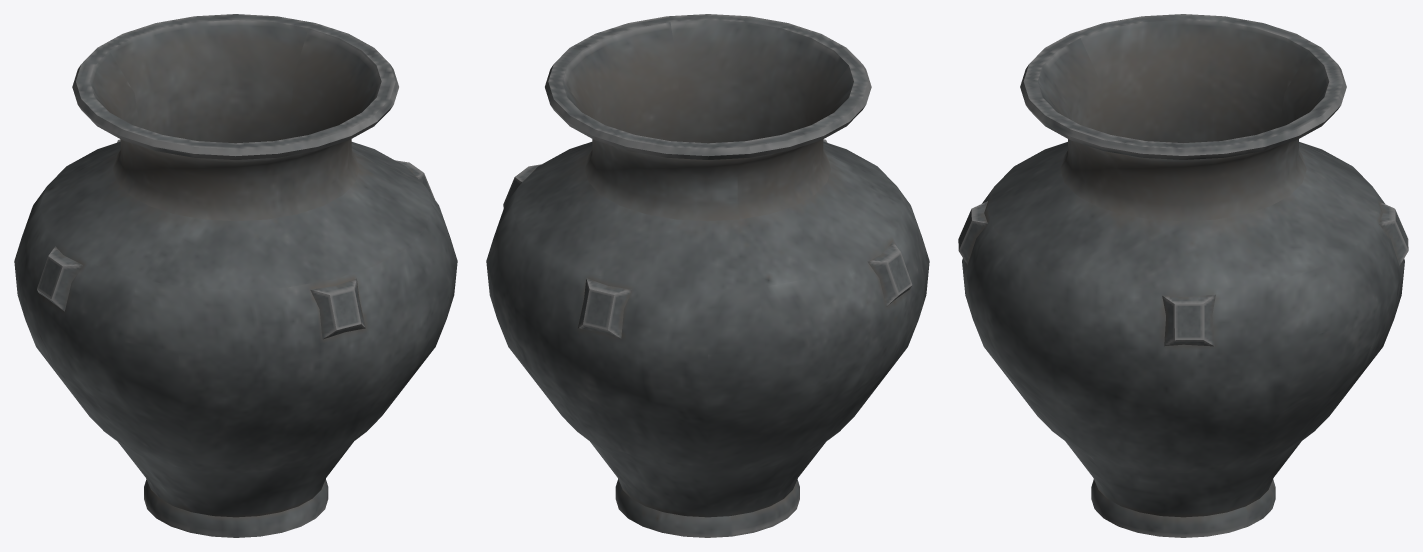
Rendered from Mausoleum Vase 1.fbx.
3 renders of one model, left to right at view 1: azimuth 30°, elevation 25°; view 2: azimuth 150°, elevation 25°; view 3: azimuth 270°, elevation 25°, orthographic.
Parts seen in each view (by area): view 1: Cylinder; view 2: Cylinder; view 3: Cylinder.
Boxes of the visible parts, bbox=[...] form: Cylinder: bbox=[14, 14, 457, 537]; Cylinder: bbox=[486, 14, 929, 537]; Cylinder: bbox=[958, 14, 1408, 537].
Bounding box in the file's own units: 70.57 × 72.18 × 70.59.
